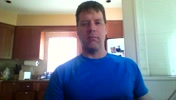hand: (51, 73, 94, 100)
